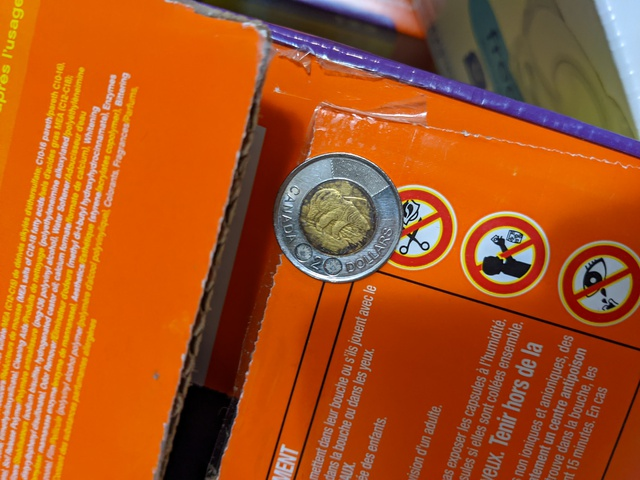twonie: (267, 146, 407, 281)
